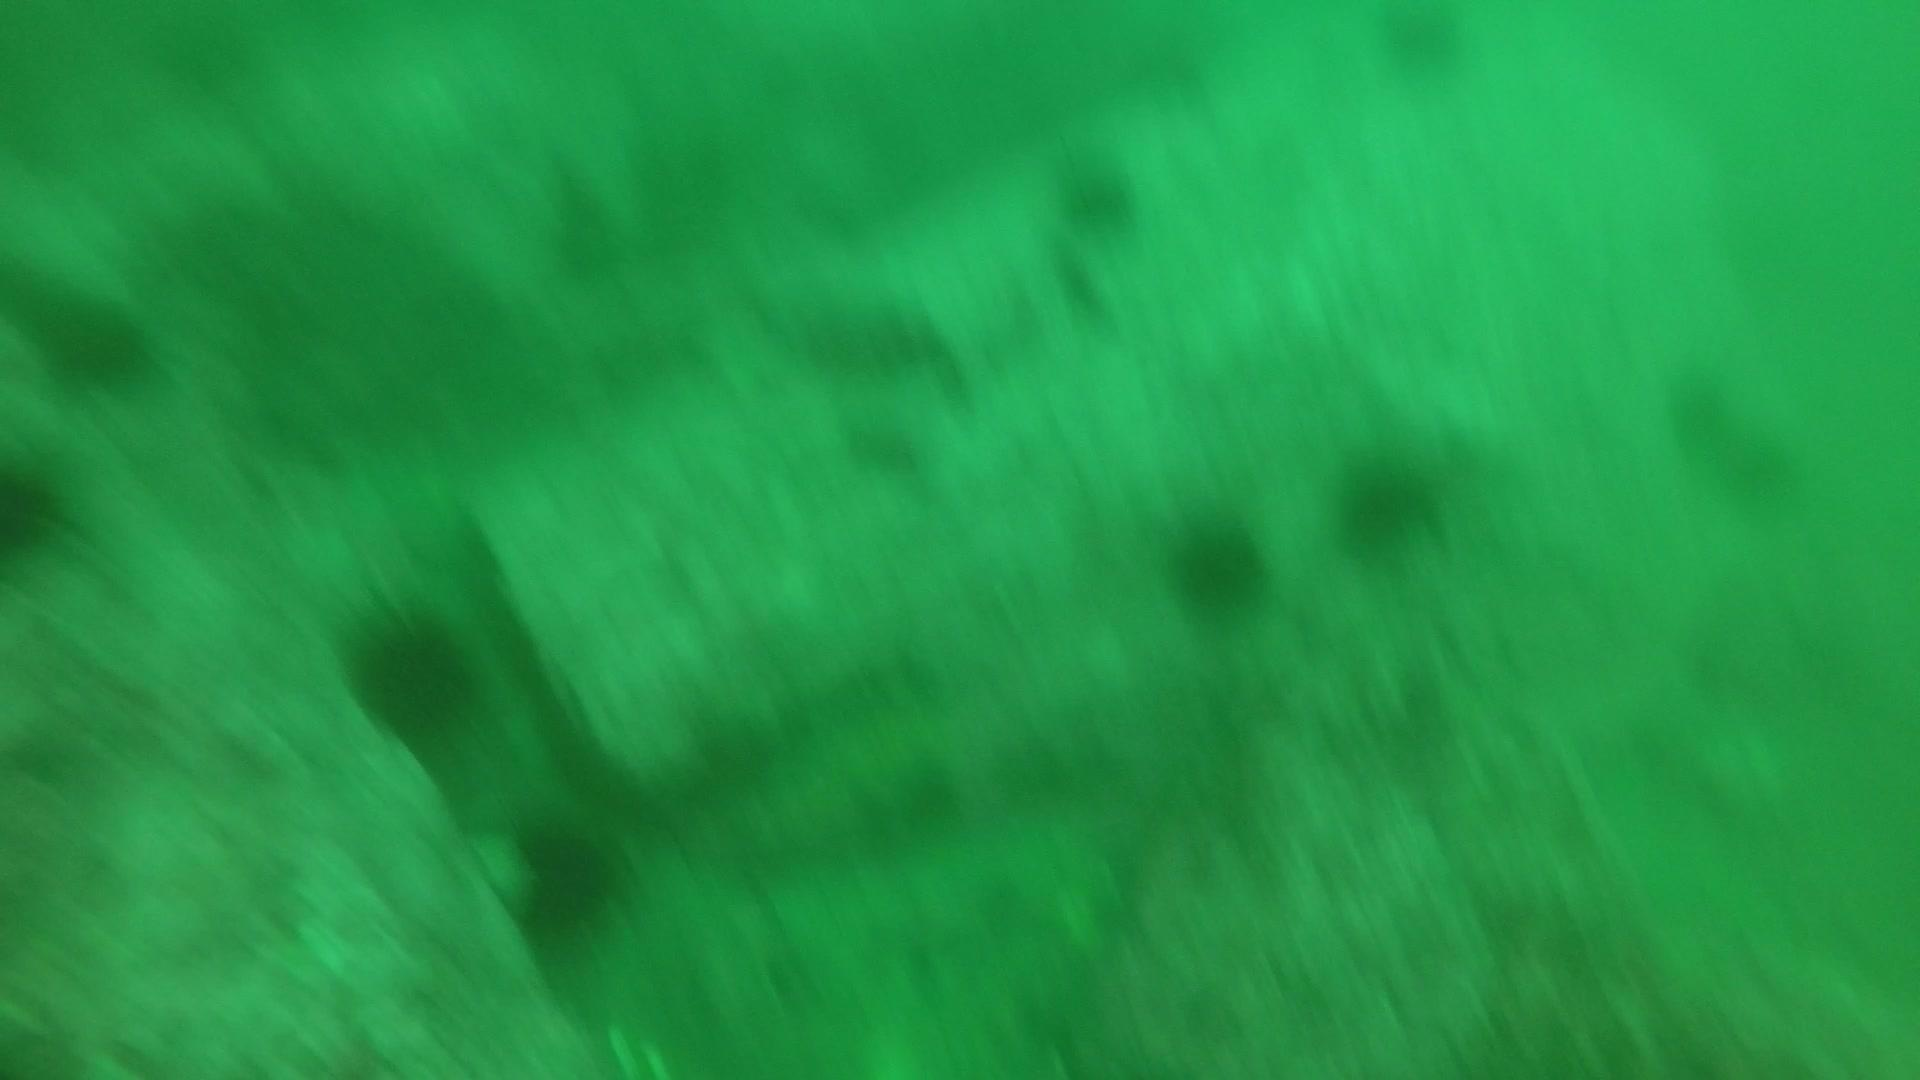echinus: (339, 599, 485, 744), (506, 815, 628, 942), (1328, 442, 1448, 558), (30, 287, 158, 392), (1160, 506, 1273, 621), (1367, 3, 1476, 80), (1, 450, 74, 564), (1050, 150, 1143, 237)
